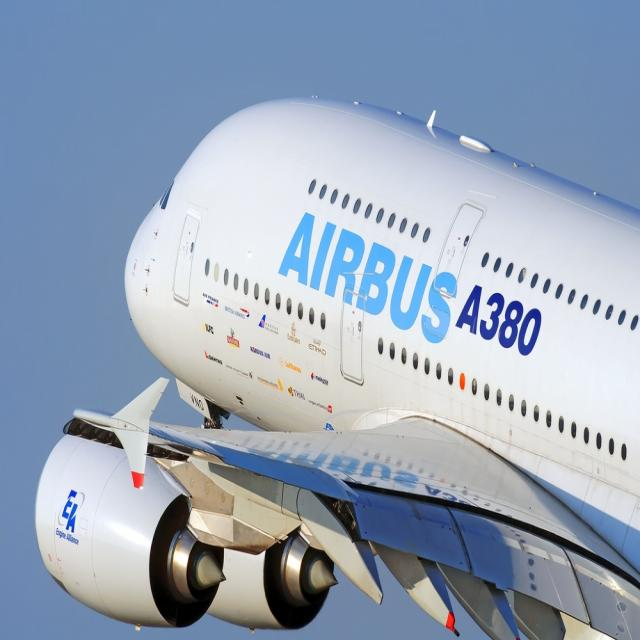A380: (36, 97, 640, 640)
